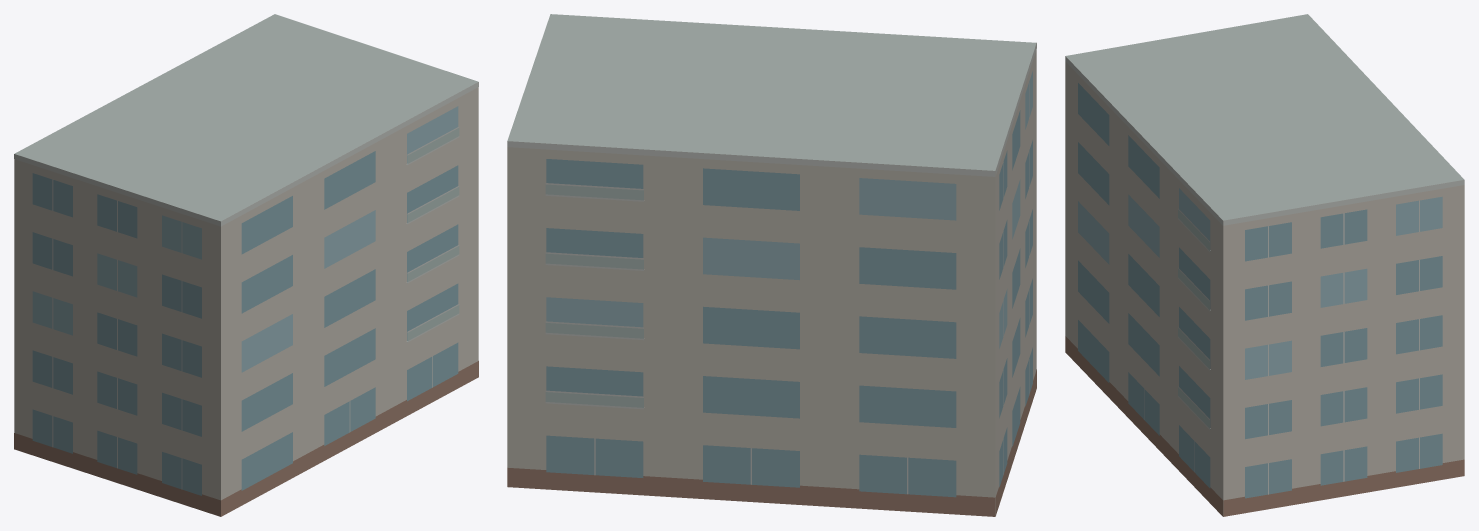
Rendered from survey-upis-32587661.glb.
The picture shows the model from 3 angles, left to right: view 1: azimuth 30°, elevation 25°; view 2: azimuth 150°, elevation 25°; view 3: azimuth 270°, elevation 25°; orthographic projection. The views are drawn at different scales.
Parts seen in each view (by area): view 1: survey-upis-32587661.tmp; view 2: survey-upis-32587661.tmp; view 3: survey-upis-32587661.tmp.
Boxes of the visible parts, bbox=[...] form: survey-upis-32587661.tmp: bbox=[14, 14, 478, 516]; survey-upis-32587661.tmp: bbox=[507, 14, 1036, 516]; survey-upis-32587661.tmp: bbox=[1065, 14, 1464, 516].
Bounding box in the file's own units: 20.95 × 14 × 17.11.
